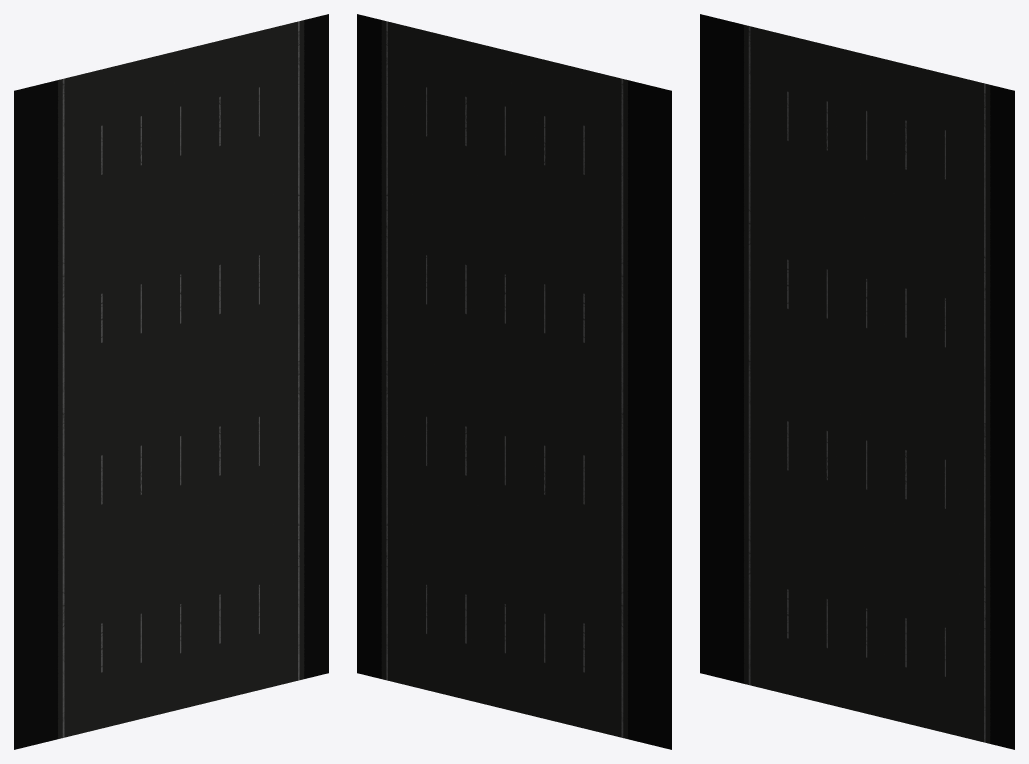
The model's file is basic-6ls-segment.fbx.
3 renders of one model, left to right at view 1: azimuth 30°, elevation 25°; view 2: azimuth 150°, elevation 25°; view 3: azimuth 330°, elevation 25°, orthographic.
Visible parts, largest first — view 1: basic-6ls-segment; view 2: basic-6ls-segment; view 3: basic-6ls-segment.
Boxes of the visible parts, x1,y1,x2,y2 form: basic-6ls-segment: (14,14,328,749); basic-6ls-segment: (357,14,671,749); basic-6ls-segment: (700,14,1014,749).
Size of the model in its own units: 3200 by 6400 by 0.000763.
